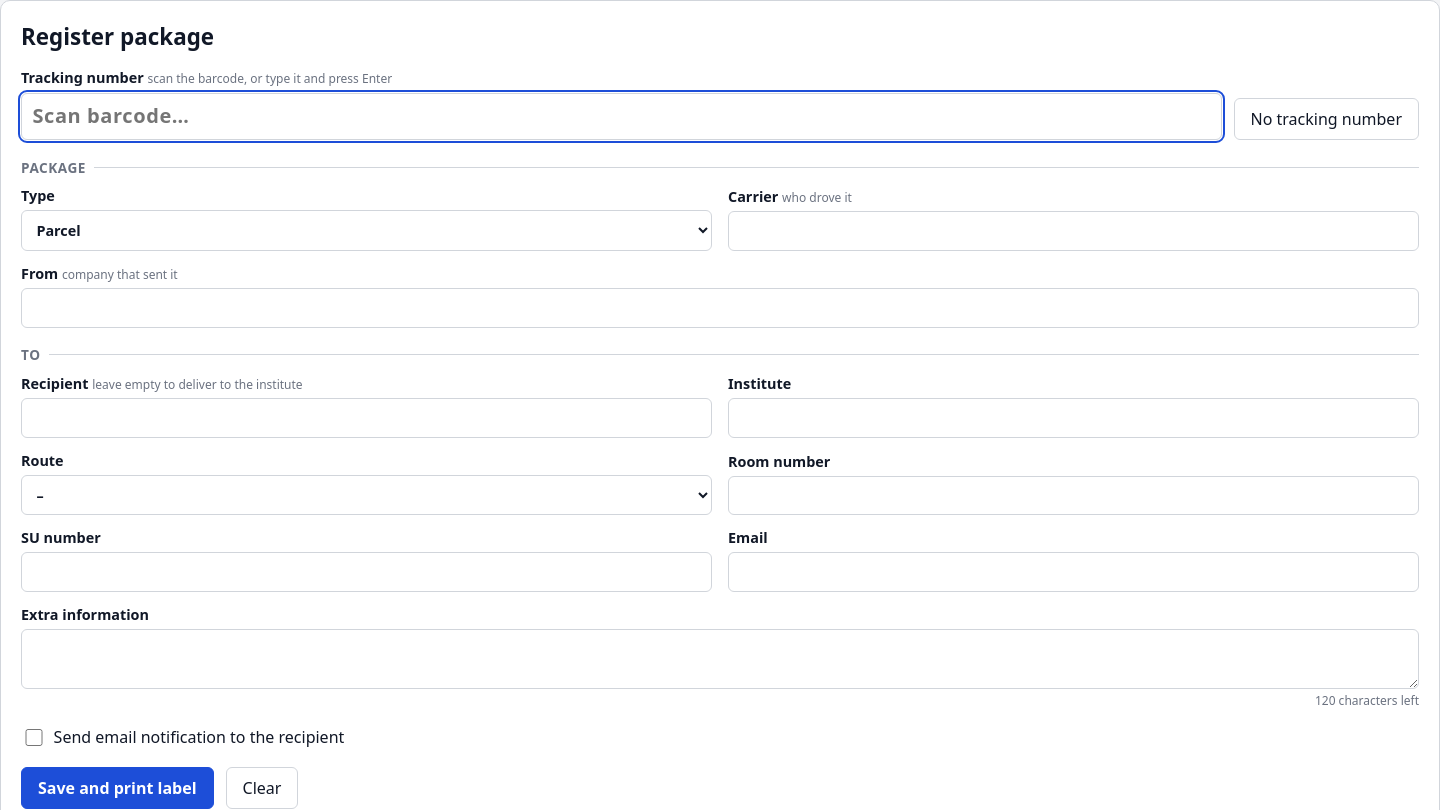
it: scanning (number + Enter) looks the number up and fills the form without saving
In the field labelled "Tracking number scan the barcode, or type it and press Enter": [621, 116] box top-left (21, 92), bottom-right (1222, 140), type "1Z999AA10123456784"
Then press Enter
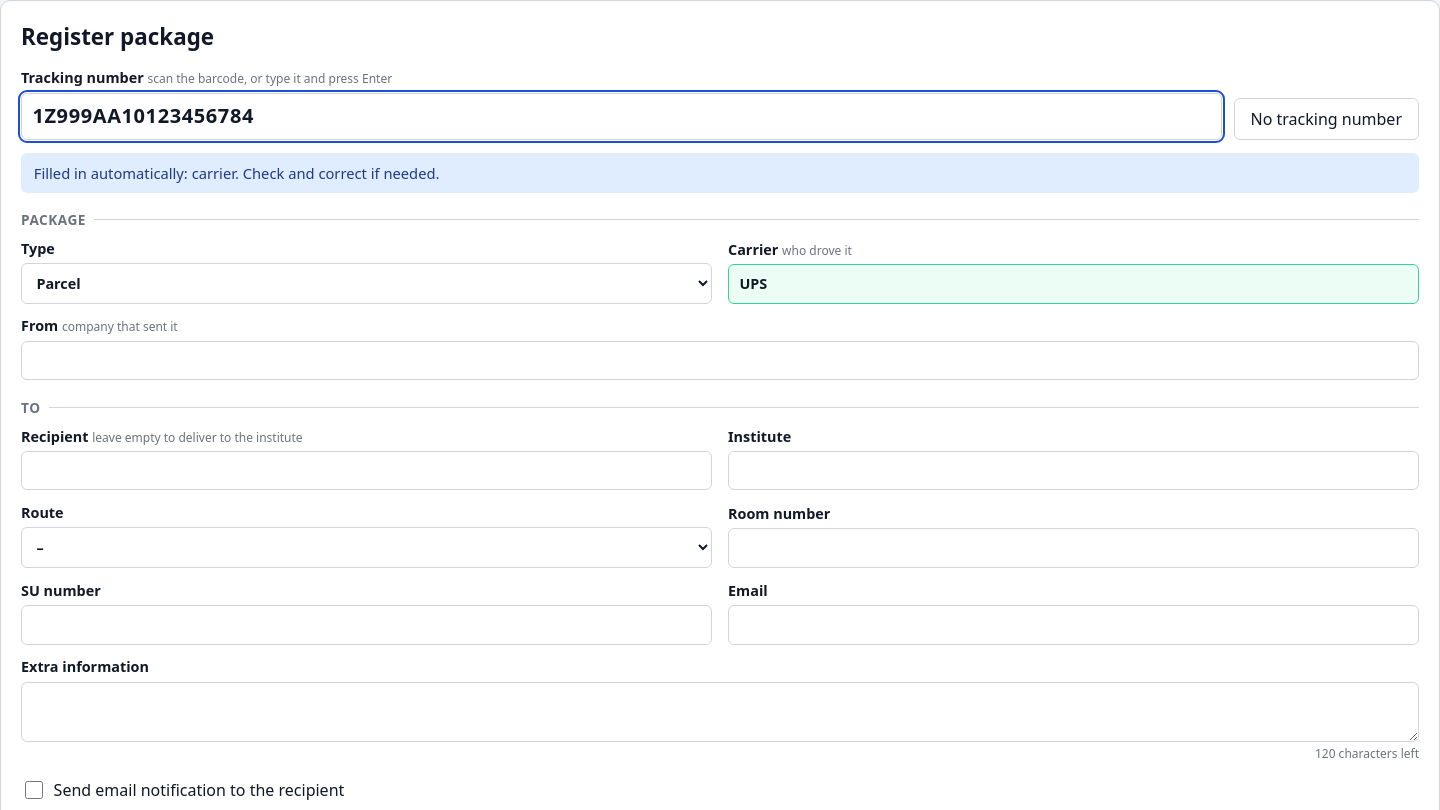
Expected: the field labelled "Carrier who drove it" holds "UPS", top-left (728, 264), bottom-right (1419, 304)
Expected: the text "Filled in automatically: carrier" is shown, top-left (34, 162), bottom-right (440, 182)
